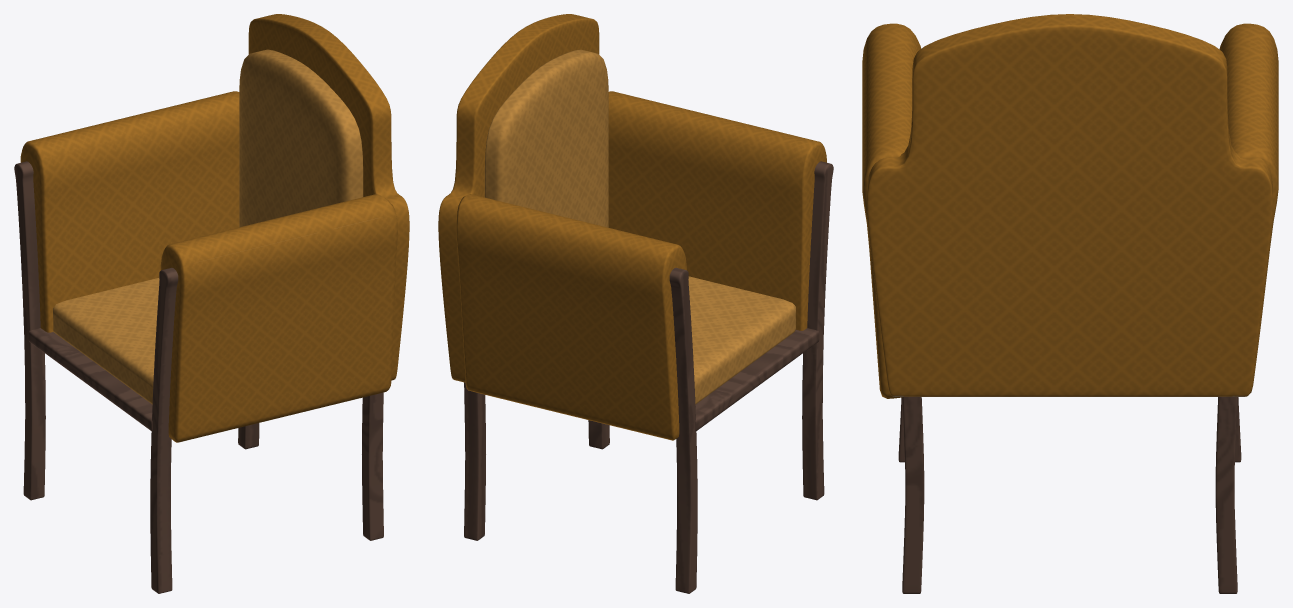
The model's file is Chair_Happy.fbx.
3 renders of one model, left to right at view 1: azimuth 30°, elevation 25°; view 2: azimuth 150°, elevation 25°; view 3: azimuth 270°, elevation 25°, orthographic. The views are drawn at different scales.
Visible parts, largest first — view 1: Armchair_01; view 2: Armchair_01; view 3: Armchair_01.
Part boxes in pixels (x1,y1,x2,y2): Armchair_01: (14,14,409,593); Armchair_01: (438,14,833,593); Armchair_01: (862,14,1278,593).
Bounding box in the file's own units: 66.78 × 121 × 78.94.
